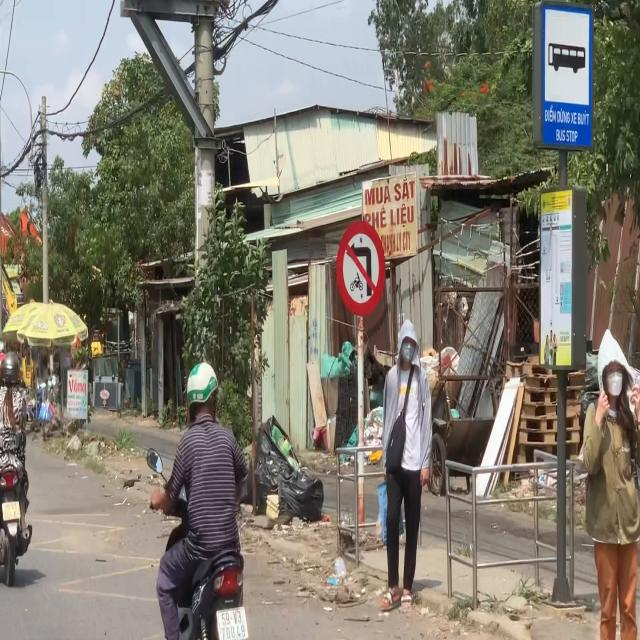Cam re trai: (336, 218, 386, 318)
Hieu lenh: (532, 3, 597, 154)
